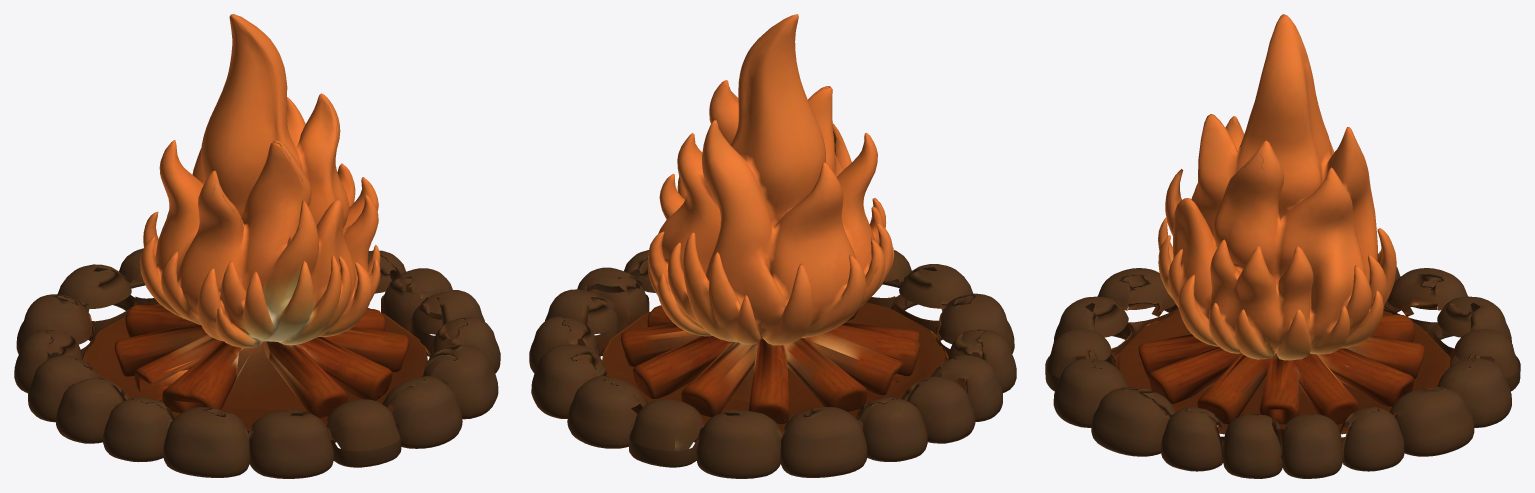
File: Outdoor__a_campfire_pit_e19b20e1_v4.cluster.glb
3 views of the same model, side by side, from view 1: azimuth 30°, elevation 25°; view 2: azimuth 150°, elevation 25°; view 3: azimuth 270°, elevation 25° (orthographic). The views are drawn at different scales.
Visible parts, largest first — view 1: material; view 2: material; view 3: material.
Part boxes in pixels (<box>): material: <box>14,14,500,478</box>; material: <box>529,14,1016,478</box>; material: <box>1045,14,1520,478</box>.
Bounding box in the file's own units: 1.88 × 1.57 × 1.91.
Materials: 1 (1 with a texture image).
